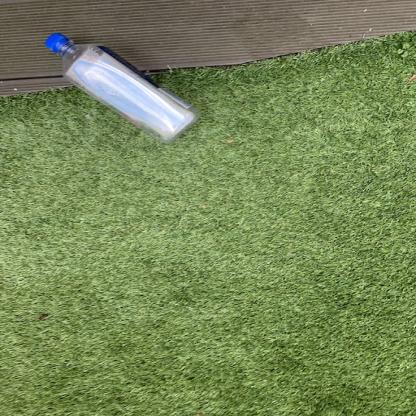trash: (44, 31, 201, 146)
